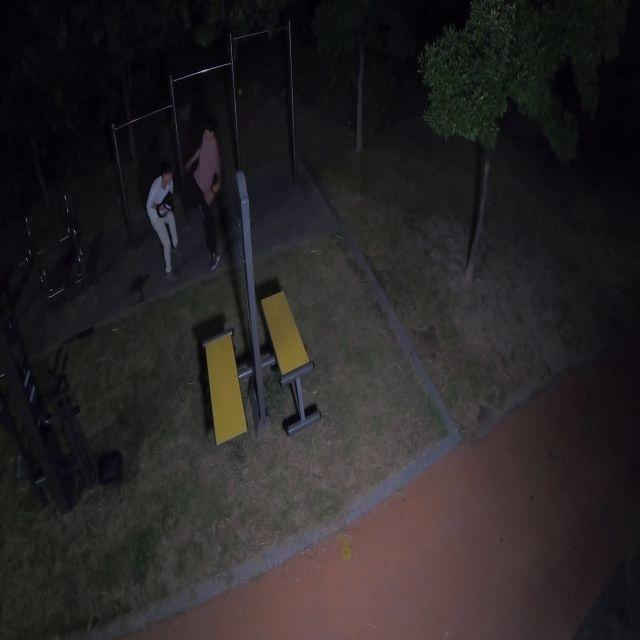fight: (136, 116, 233, 278)
